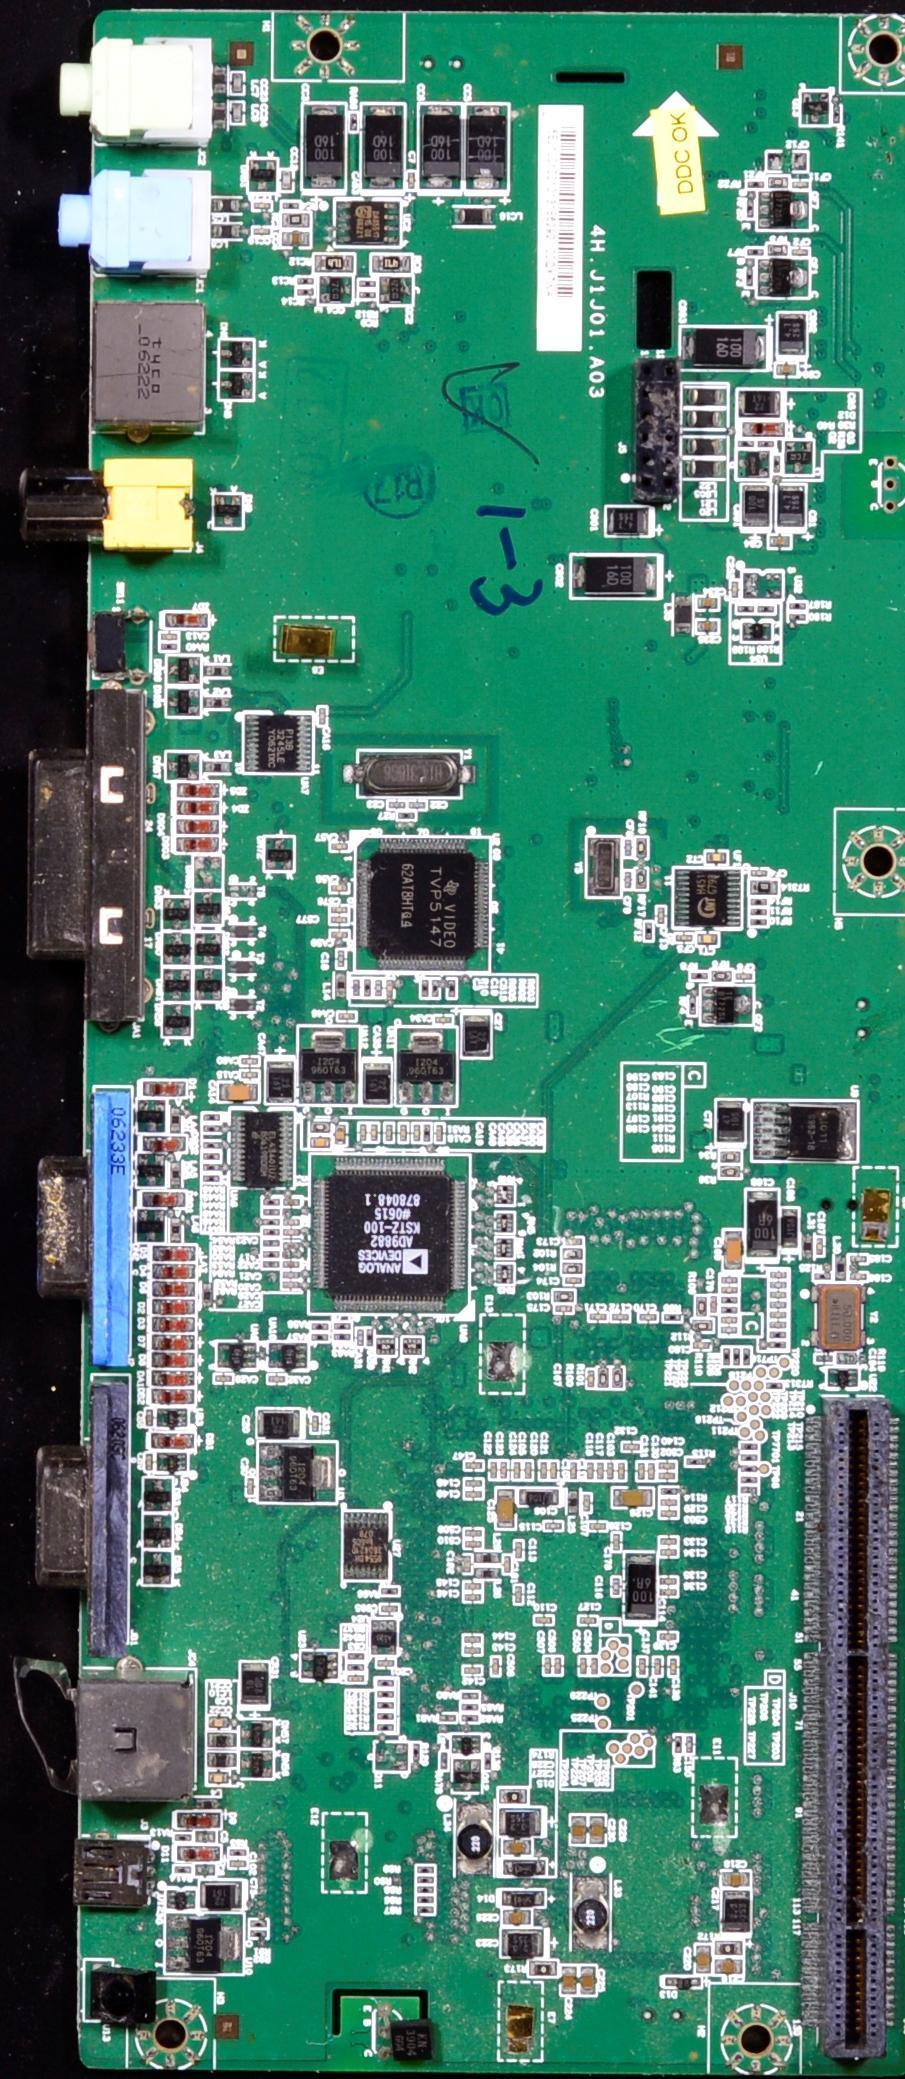Capacitor: (361, 749, 461, 797), (744, 1189, 779, 1258), (397, 1051, 457, 1085), (716, 1099, 747, 1146), (463, 1011, 492, 1057), (221, 1081, 260, 1104), (722, 1229, 743, 1269), (781, 1208, 800, 1249), (502, 1841, 539, 1858), (282, 231, 311, 248), (694, 1942, 710, 1972), (206, 1767, 230, 1785), (562, 1967, 577, 1997), (337, 1010, 367, 1024), (589, 1816, 604, 1843), (714, 1961, 742, 1974), (227, 71, 245, 92), (230, 102, 246, 125), (572, 1816, 586, 1843), (503, 1910, 530, 1924), (580, 1968, 594, 1994), (696, 620, 719, 635), (776, 362, 797, 379), (721, 1873, 751, 1884), (238, 1056, 262, 1069), (770, 534, 791, 549), (696, 597, 719, 608), (704, 851, 727, 863), (208, 1716, 229, 1729), (215, 1372, 237, 1384), (489, 1655, 500, 1679), (696, 932, 717, 944), (412, 1124, 426, 1142), (333, 1124, 346, 1143), (310, 1136, 332, 1147), (512, 1460, 522, 1482), (318, 705, 328, 728), (549, 1460, 559, 1481), (368, 1124, 380, 1143), (268, 1374, 286, 1385), (281, 168, 290, 192), (674, 933, 693, 945), (488, 1460, 498, 1480), (464, 1489, 484, 1500), (656, 906, 667, 925), (767, 178, 790, 187), (282, 1199, 299, 1210), (433, 1124, 444, 1143), (589, 1314, 608, 1324), (588, 1521, 607, 1532), (462, 1557, 473, 1575), (462, 1635, 481, 1645), (668, 1656, 678, 1675), (554, 1656, 564, 1675), (589, 1657, 600, 1676), (542, 1657, 553, 1676), (462, 1666, 483, 1676), (623, 870, 633, 889), (398, 1126, 409, 1142), (251, 227, 274, 235), (638, 1312, 657, 1322), (815, 1354, 835, 1363), (524, 1460, 533, 1480), (539, 1460, 549, 1480), (647, 1460, 656, 1480), (638, 1462, 646, 1482), (578, 1616, 598, 1626), (282, 1281, 300, 1291), (464, 1528, 481, 1538), (611, 1534, 621, 1551), (620, 1443, 642, 1451), (721, 1274, 736, 1286), (565, 1276, 583, 1285), (587, 1369, 596, 1388), (464, 1461, 482, 1470), (607, 1461, 616, 1480), (464, 1479, 482, 1488), (660, 1576, 678, 1586), (612, 1576, 622, 1595), (791, 248, 810, 257), (623, 839, 632, 858), (499, 1460, 508, 1481), (693, 1341, 710, 1350), (616, 1462, 625, 1480), (638, 1657, 646, 1675), (565, 1237, 584, 1245), (850, 1272, 869, 1280), (768, 1301, 788, 1309), (659, 1462, 678, 1471), (587, 1461, 595, 1481), (545, 1523, 564, 1532), (659, 1538, 679, 1546), (659, 1588, 679, 1596), (463, 1594, 482, 1602), (462, 1645, 482, 1654), (387, 1122, 394, 1144), (435, 1017, 453, 1025), (816, 1237, 824, 1255), (849, 1255, 868, 1264), (282, 1261, 301, 1269), (554, 1305, 573, 1313), (611, 1313, 630, 1321), (721, 1316, 739, 1325), (356, 1328, 365, 1347), (583, 1494, 591, 1513), (515, 1540, 524, 1558), (660, 1548, 679, 1557), (515, 1585, 524, 1603), (381, 1605, 400, 1613), (654, 1658, 662, 1676), (655, 1472, 676, 1479), (597, 1462, 605, 1480), (465, 1540, 482, 1547), (462, 1583, 480, 1591), (535, 1616, 553, 1624), (750, 869, 767, 877), (769, 1271, 788, 1278), (769, 1291, 788, 1298), (791, 182, 811, 188), (283, 1219, 300, 1226), (284, 1228, 299, 1236), (284, 1272, 300, 1279), (503, 1557, 511, 1573), (254, 202, 270, 210), (161, 633, 178, 640), (360, 1123, 367, 1142), (770, 1282, 788, 1289), (570, 1461, 577, 1480), (659, 1633, 677, 1640), (580, 1656, 587, 1675), (769, 1322, 786, 1329), (348, 1674, 366, 1681), (732, 580, 738, 597), (720, 1286, 736, 1293), (242, 1073, 260, 1078), (711, 1296, 717, 1313), (720, 1327, 737, 1333), (770, 1312, 785, 1318)
Connector: (802, 1392, 905, 2044), (24, 690, 142, 1024), (32, 1377, 128, 1659), (36, 1090, 129, 1368), (27, 1671, 199, 1799), (65, 39, 216, 155), (60, 168, 212, 279), (15, 462, 194, 551), (91, 303, 206, 435), (71, 1836, 150, 1909)
IC: (312, 1157, 469, 1311), (357, 841, 491, 967), (752, 1100, 859, 1163), (234, 1109, 294, 1186), (167, 1913, 243, 1973), (675, 866, 742, 929), (245, 713, 315, 773), (343, 1512, 390, 1582), (336, 201, 400, 243), (300, 1652, 338, 1682), (217, 1341, 257, 1367), (269, 1343, 307, 1368), (374, 1620, 397, 1657), (452, 1734, 482, 1755), (827, 1367, 858, 1387), (165, 1888, 196, 1908)
Resistor: (633, 869, 650, 891), (562, 1248, 586, 1262), (635, 836, 649, 860), (531, 1962, 557, 1976), (835, 1354, 858, 1367), (612, 1366, 624, 1389), (720, 1152, 742, 1164), (562, 1263, 584, 1275), (598, 1366, 608, 1391), (719, 1166, 741, 1178), (767, 245, 790, 256), (553, 1291, 573, 1303), (696, 1297, 707, 1317), (692, 1320, 712, 1333), (664, 1313, 683, 1324), (376, 1678, 396, 1689), (201, 1112, 220, 1123), (422, 1122, 430, 1142), (722, 1348, 731, 1368), (438, 1714, 458, 1723), (415, 1866, 434, 1875), (416, 1875, 436, 1884), (737, 603, 756, 612), (203, 1140, 221, 1149), (203, 1176, 221, 1185), (311, 1322, 330, 1331), (742, 1346, 751, 1365), (732, 1348, 741, 1367), (461, 1714, 480, 1723), (788, 603, 807, 612), (377, 1691, 395, 1700), (461, 1693, 479, 1702), (461, 1702, 479, 1712), (161, 643, 179, 652), (333, 1322, 352, 1330), (483, 1751, 492, 1772), (440, 1752, 448, 1771), (418, 1906, 437, 1914), (204, 1125, 222, 1132), (203, 1152, 221, 1160), (203, 1164, 221, 1172), (720, 1306, 738, 1314), (769, 1331, 785, 1340), (310, 1333, 329, 1341), (348, 1652, 365, 1661), (376, 1701, 395, 1709), (416, 1886, 434, 1893), (789, 612, 807, 621), (266, 1219, 283, 1226), (262, 1250, 280, 1258), (334, 1333, 351, 1340), (265, 1199, 279, 1208), (722, 1296, 738, 1304), (264, 1229, 282, 1236), (262, 1261, 281, 1267), (376, 1714, 395, 1721), (416, 1897, 433, 1904), (770, 1342, 786, 1349), (378, 1724, 394, 1730), (413, 1743, 420, 1760), (262, 1210, 280, 1216), (260, 1240, 276, 1245), (349, 1665, 365, 1671), (758, 607, 774, 612), (656, 957, 657, 969)
Transistor: (701, 985, 753, 1027), (758, 260, 810, 299), (758, 192, 809, 229), (452, 1760, 483, 1794), (218, 371, 254, 402), (735, 450, 771, 478), (138, 1099, 167, 1133), (784, 441, 814, 475), (214, 494, 242, 529), (137, 1209, 165, 1240), (320, 275, 351, 303), (138, 1153, 164, 1187), (251, 162, 277, 194), (382, 278, 413, 305), (220, 339, 253, 365), (801, 101, 830, 115)
